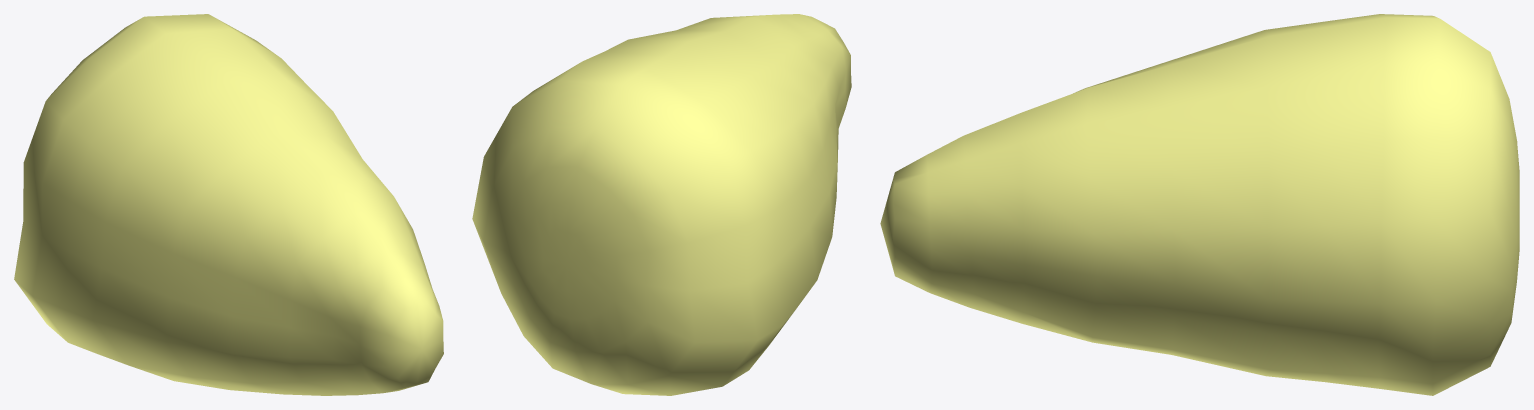
Rendered from Lettuce_5.obj.
The picture shows the model from 3 angles, left to right: view 1: azimuth 30°, elevation 25°; view 2: azimuth 150°, elevation 25°; view 3: azimuth 270°, elevation 25°; orthographic projection. The views are drawn at different scales.
Bounding box in the file's own units: 0.14 × 0.1436 × 0.2313.
